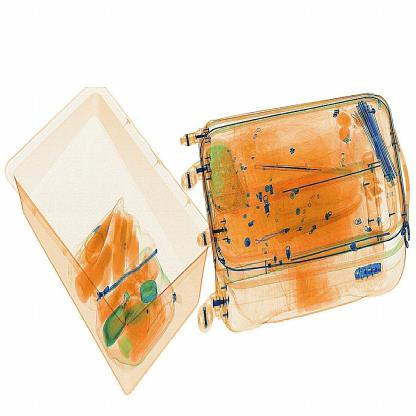wrench: (242, 160, 352, 181)
